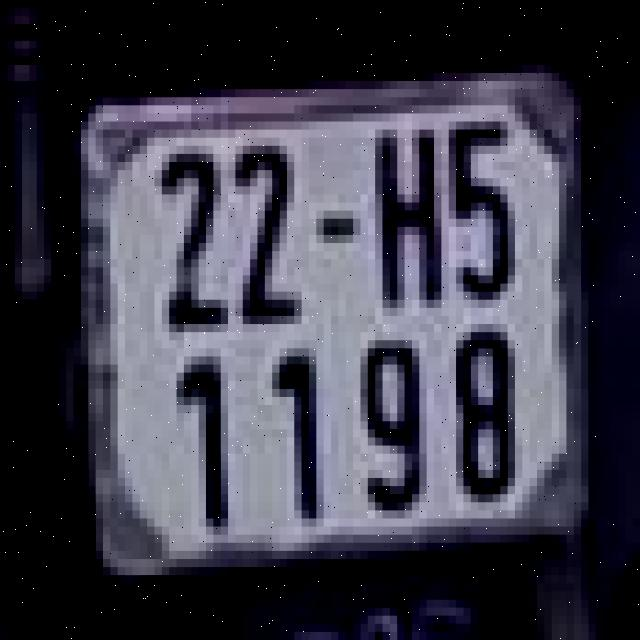1: (151, 344, 239, 539), (261, 336, 335, 539)
2: (224, 134, 313, 336), (154, 142, 236, 352)
5: (445, 105, 519, 300)
8: (438, 320, 526, 514)
9: (338, 328, 434, 523)
H: (353, 125, 449, 312)
